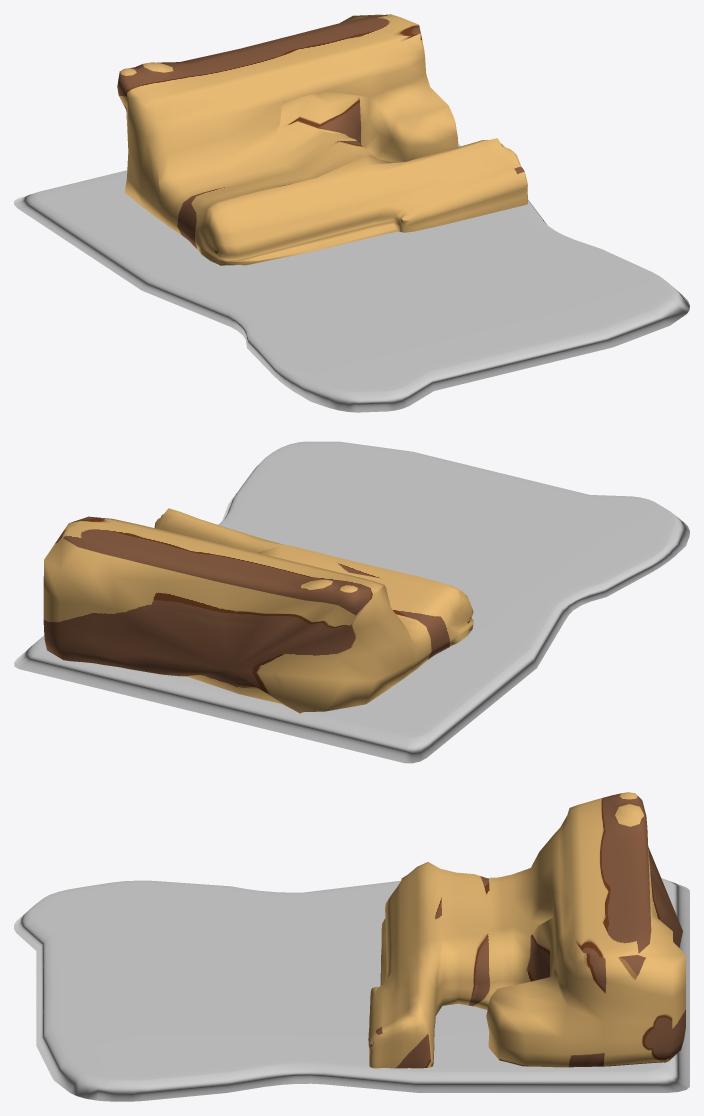
Rendered from Terrain with hole.fbx.
3 views of the same model, one above another, from view 1: azimuth 30°, elevation 25°; view 2: azimuth 150°, elevation 25°; view 3: azimuth 270°, elevation 25° (orthographic). The views are drawn at different scales.
Visible parts, largest first — view 1: Cube, Cube.001; view 2: Cube, Cube.001; view 3: Cube, Cube.001.
Boxes of the visible parts, x1,y1,x2,y2 form: Cube: (14,144,689,412); Cube.001: (117,14,527,265); Cube: (14,441,689,763); Cube.001: (43,508,473,713); Cube: (14,877,689,1101); Cube.001: (368,792,685,1068).
Bounding box in the file's own units: 6210 × 1870 × 8174.
